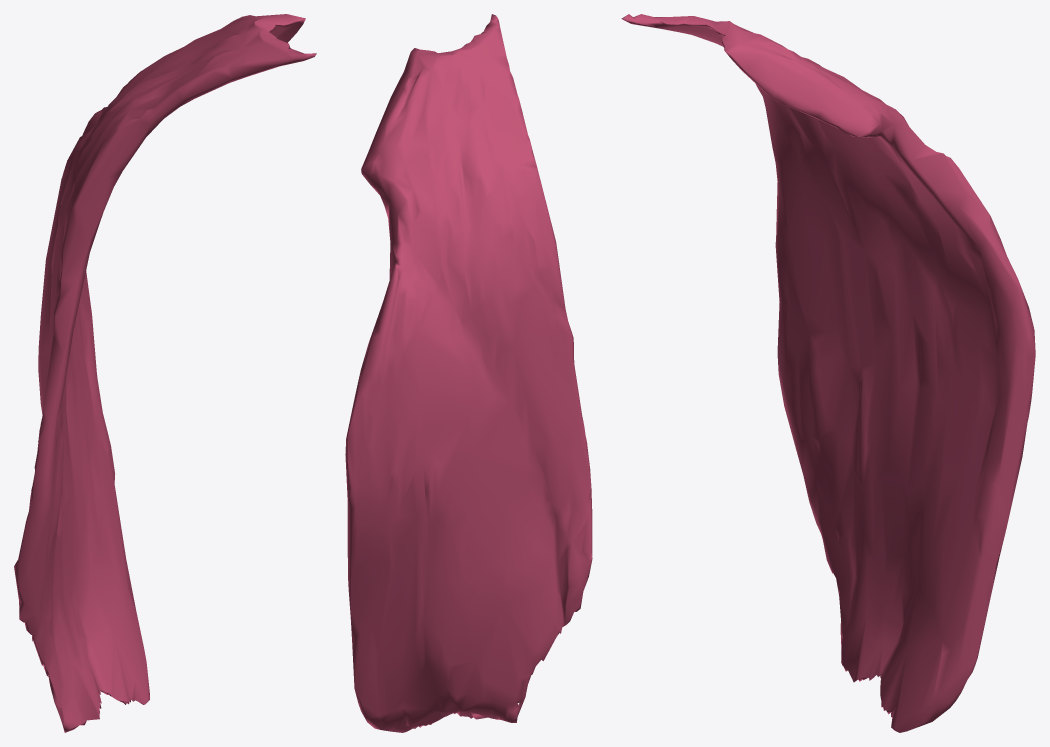
The picture shows the model from 3 angles, left to right: view 1: azimuth 30°, elevation 25°; view 2: azimuth 150°, elevation 25°; view 3: azimuth 270°, elevation 25°; orthographic projection. The views are drawn at different scales.
Parts seen in each view (by area): view 1: 右侧耻尾肌; view 2: 右侧耻尾肌; view 3: 右侧耻尾肌.
Boxes of the visible parts, box(x1,y1,x2,y2) form: 右侧耻尾肌: box(14, 14, 316, 732); 右侧耻尾肌: box(345, 14, 592, 732); 右侧耻尾肌: box(621, 14, 1035, 732).
Bounding box in the file's own units: 0.0491 × 0.1378 × 0.0711.
